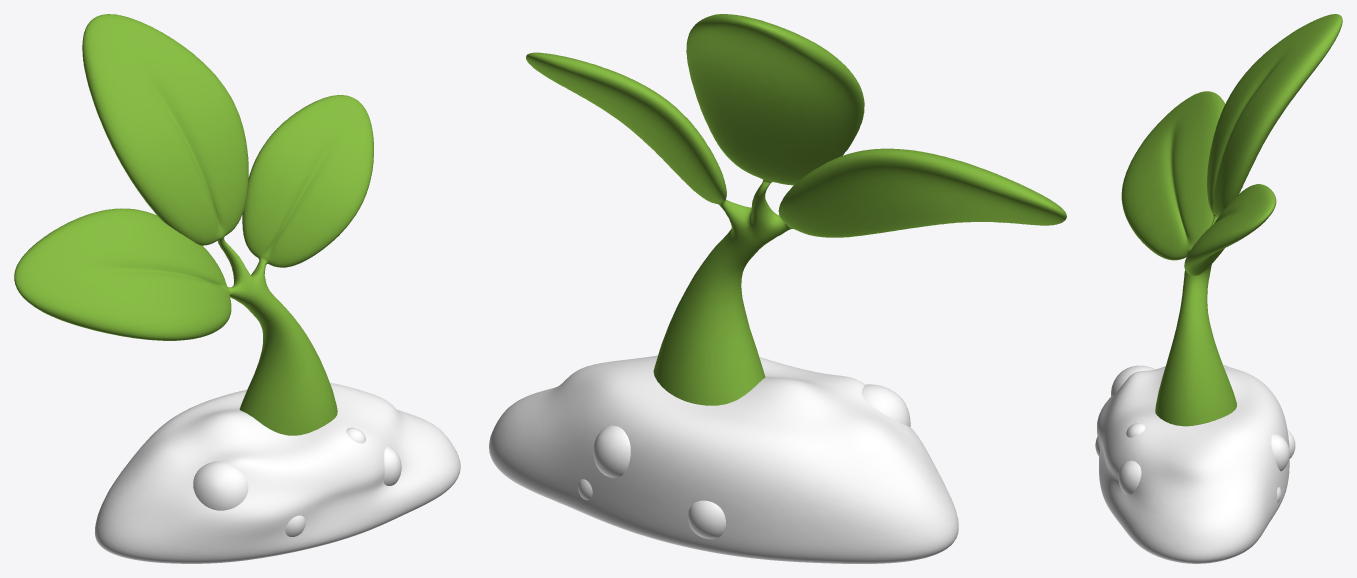
Rendered from seed.glb.
The picture shows the model from 3 angles, left to right: view 1: azimuth 30°, elevation 25°; view 2: azimuth 150°, elevation 25°; view 3: azimuth 270°, elevation 25°; orthographic projection. The views are drawn at different scales.
Parts seen in each view (by area): view 1: Cube.007; view 2: Cube.007; view 3: Cube.007.
Boxes of the visible parts, left/top/right/bottom form: Cube.007: left=14, top=14, right=460, bottom=563; Cube.007: left=489, top=14, right=1066, bottom=563; Cube.007: left=1095, top=14, right=1342, bottom=563.
Size of the model in its own units: 5.57 by 5.6 by 2.91.
